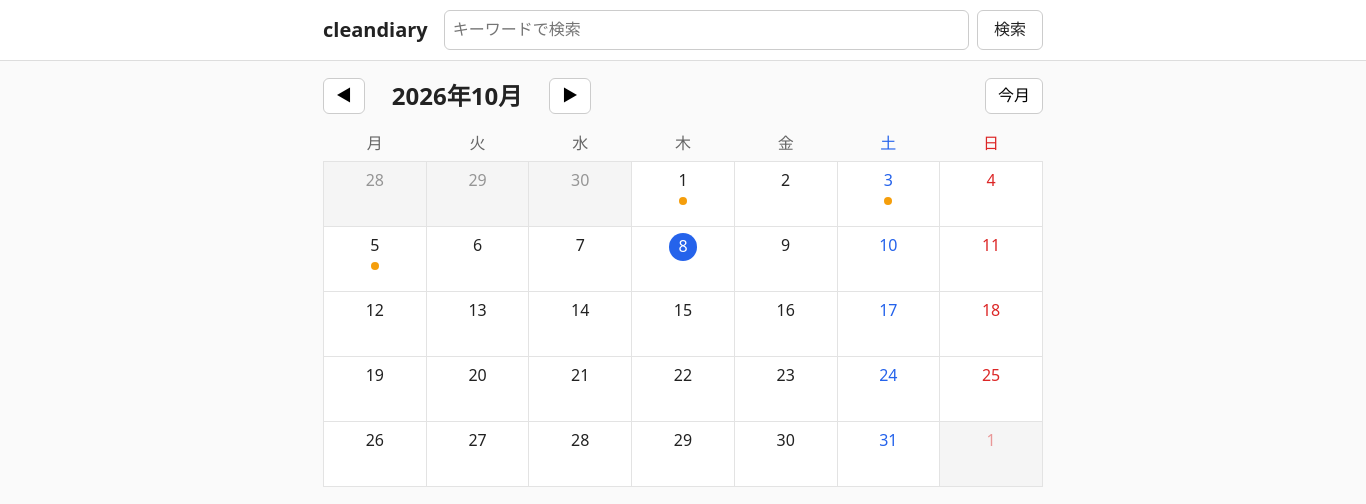
Test: キーワード検索 › Enter キーでも検索できる
This screenshot has width=1366, height=504.
Type "勉強" into the search field.
click(706, 30); type("勉強")  # box [444, 10, 969, 50]
Then press Enter
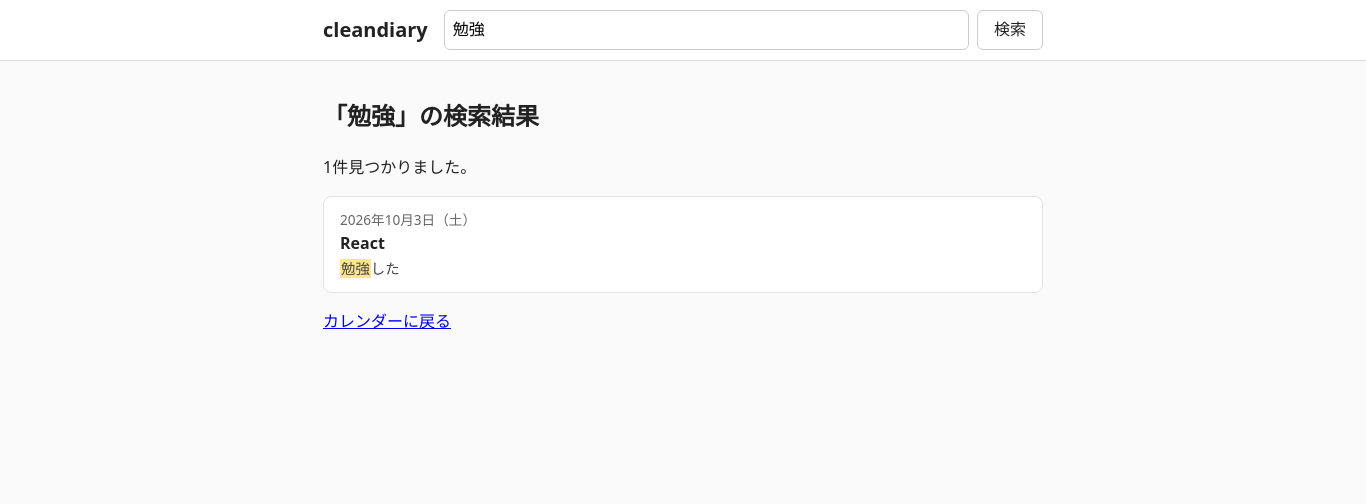
Result: the heading "「勉強」の検索結果" is shown at [323, 98, 539, 132]
